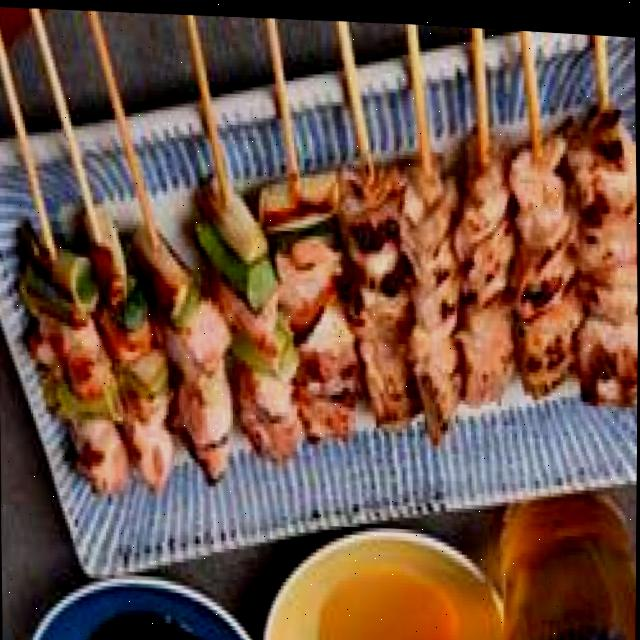烧串烤肉: (0, 0, 640, 533)
